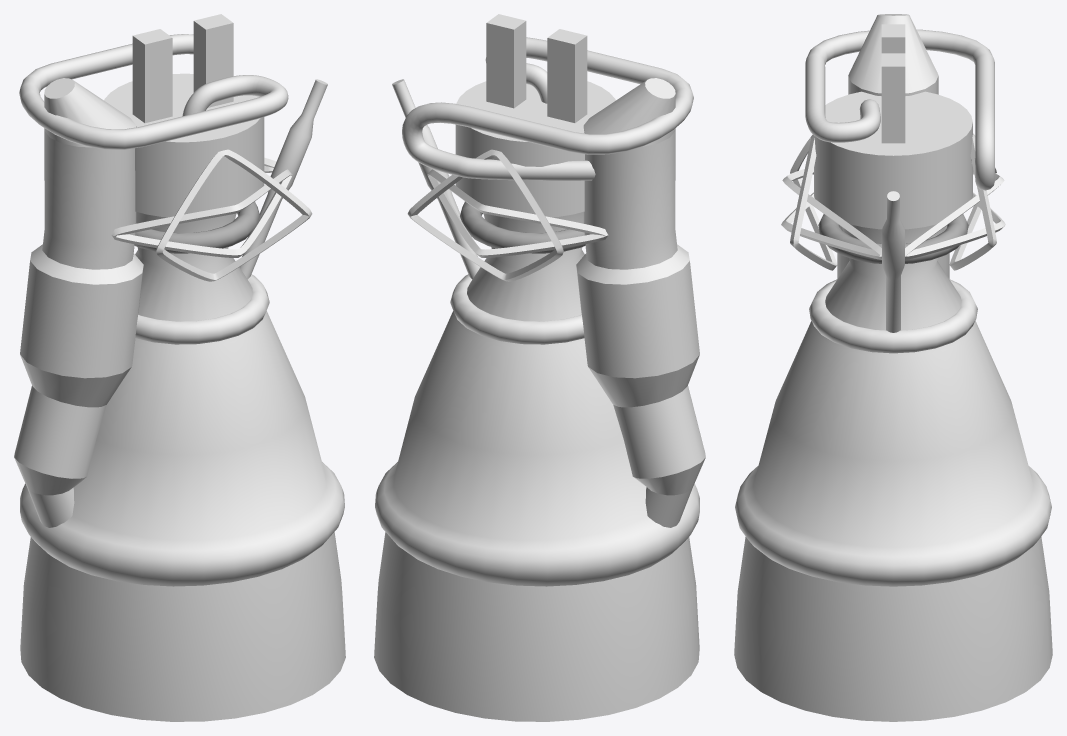
The model's file is Thruster.fbx.
3 renders of one model, left to right at view 1: azimuth 30°, elevation 25°; view 2: azimuth 150°, elevation 25°; view 3: azimuth 270°, elevation 25°, orthographic. The views are drawn at different scales.
Parts seen in each view (by area): view 1: Thruster; view 2: Thruster; view 3: Thruster.
Boxes of the visible parts, x1=… form: Thruster: x1=14, y1=14, x2=345, y2=721; Thruster: x1=374, y1=14, x2=705, y2=721; Thruster: x1=734, y1=14, x2=1052, y2=721.
Bounding box in the file's own units: 44.25 × 85.65 × 40.6.
